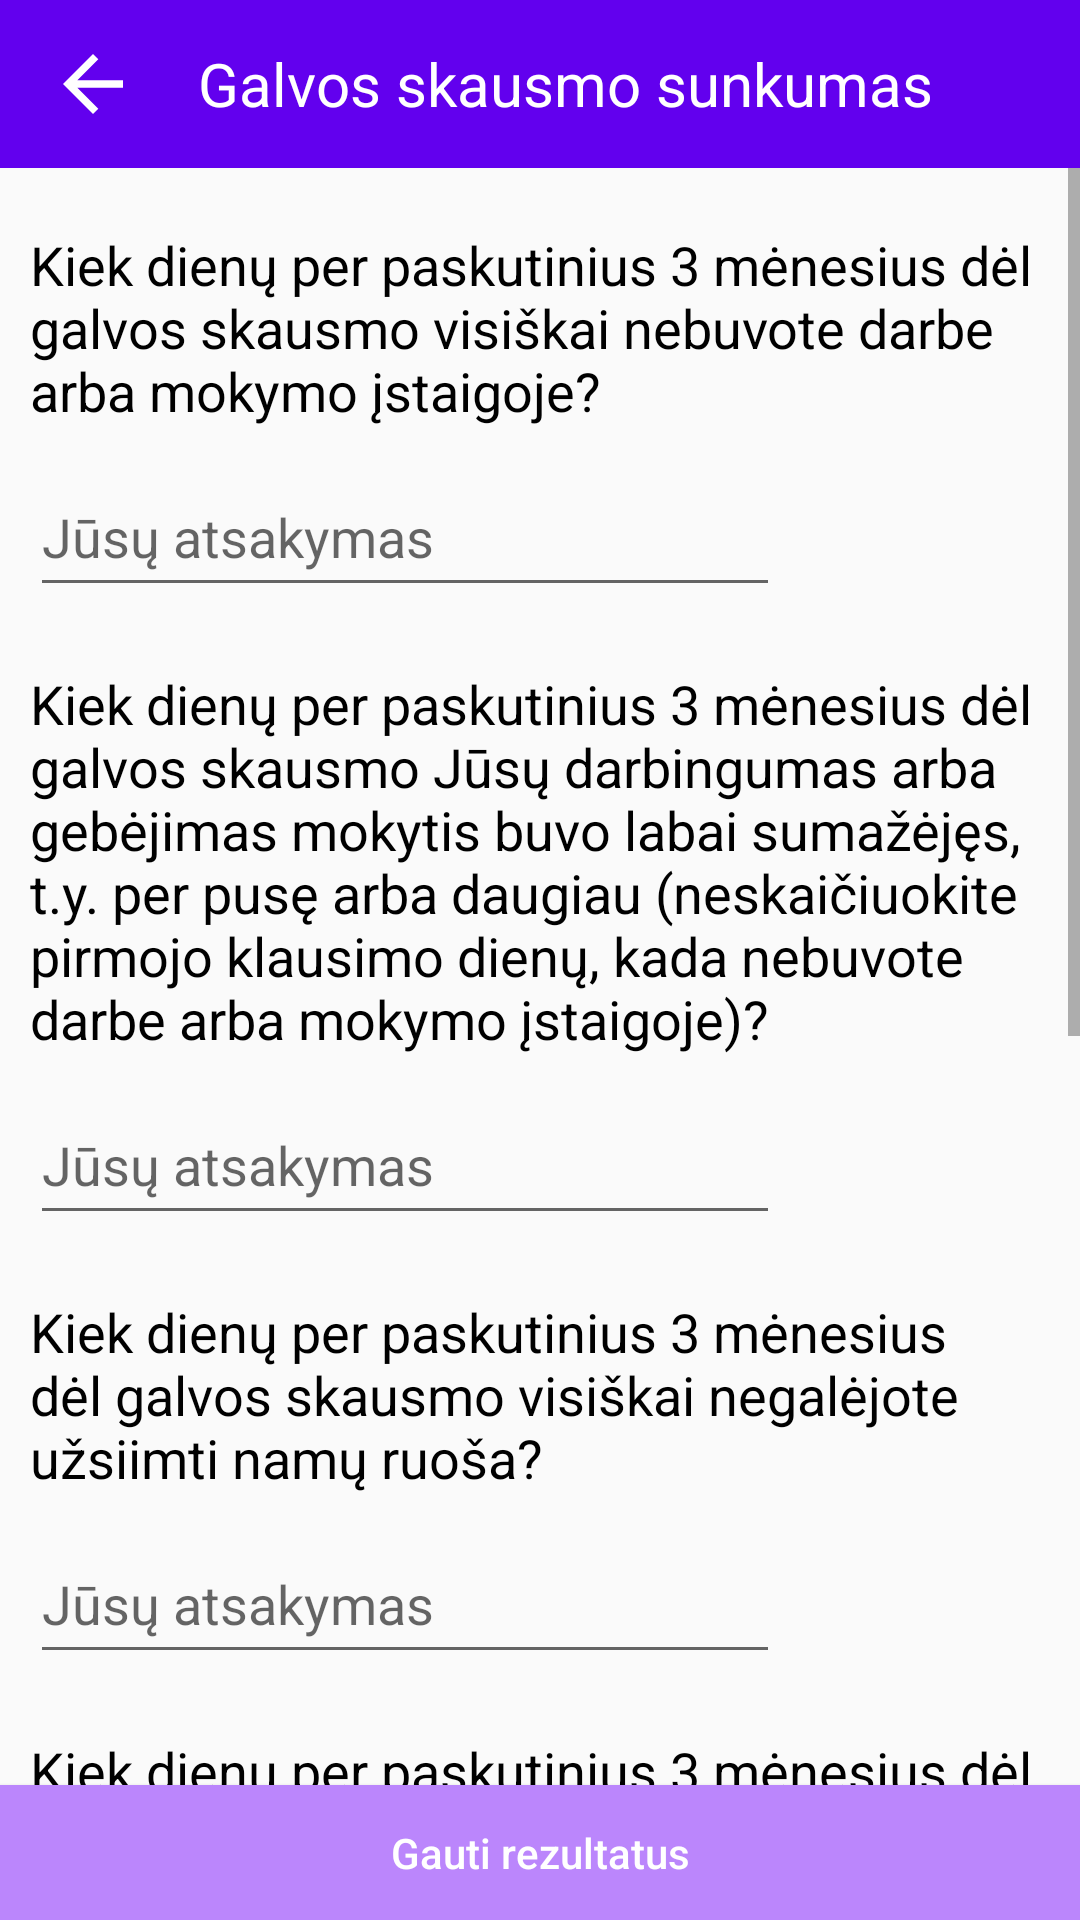

Icon click points for this 1080×1920 phone screenshot, format [x,y]:
arrow: [93,84]
